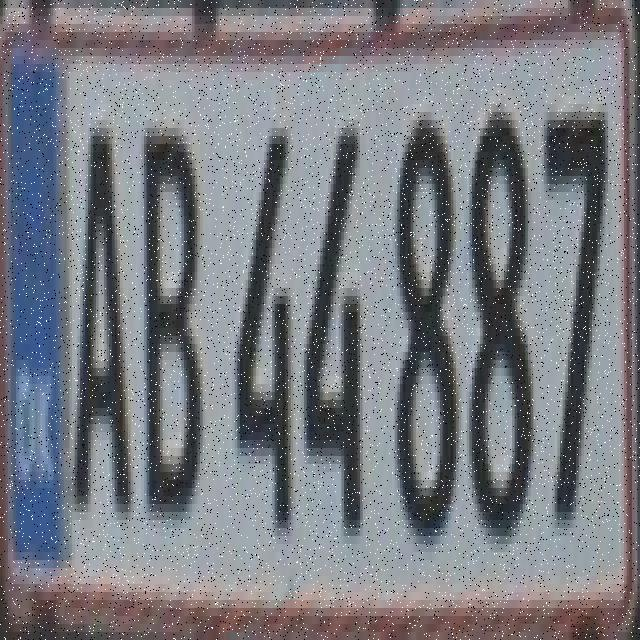licenseplate: (2, 1, 638, 640)
